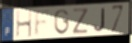7: (111, 4, 125, 34)
F: (33, 8, 53, 38)
G: (53, 8, 70, 36)
H: (16, 9, 33, 39)
J: (93, 7, 106, 33)
Z: (71, 7, 89, 35)
